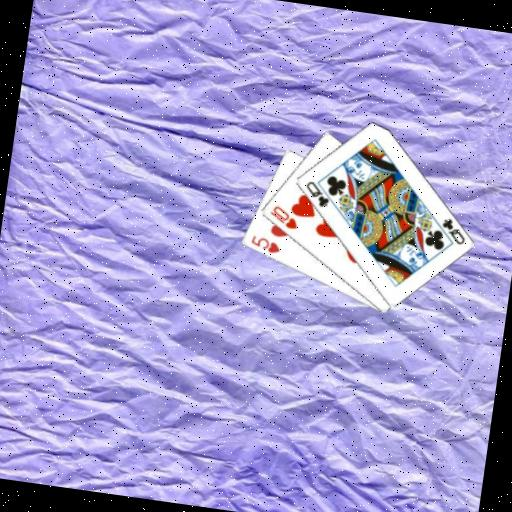10H: (265, 202, 301, 232)
5H: (247, 232, 283, 256)
QC: (300, 178, 334, 210), (436, 215, 469, 247)
